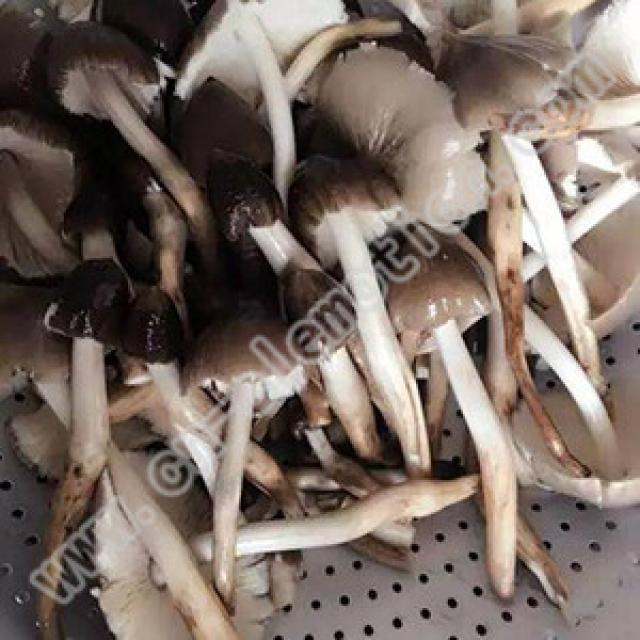Collybia albuminosa: (316, 48, 629, 219), (39, 258, 172, 633), (400, 259, 517, 600), (45, 20, 211, 252), (298, 157, 419, 468), (190, 319, 297, 590)
